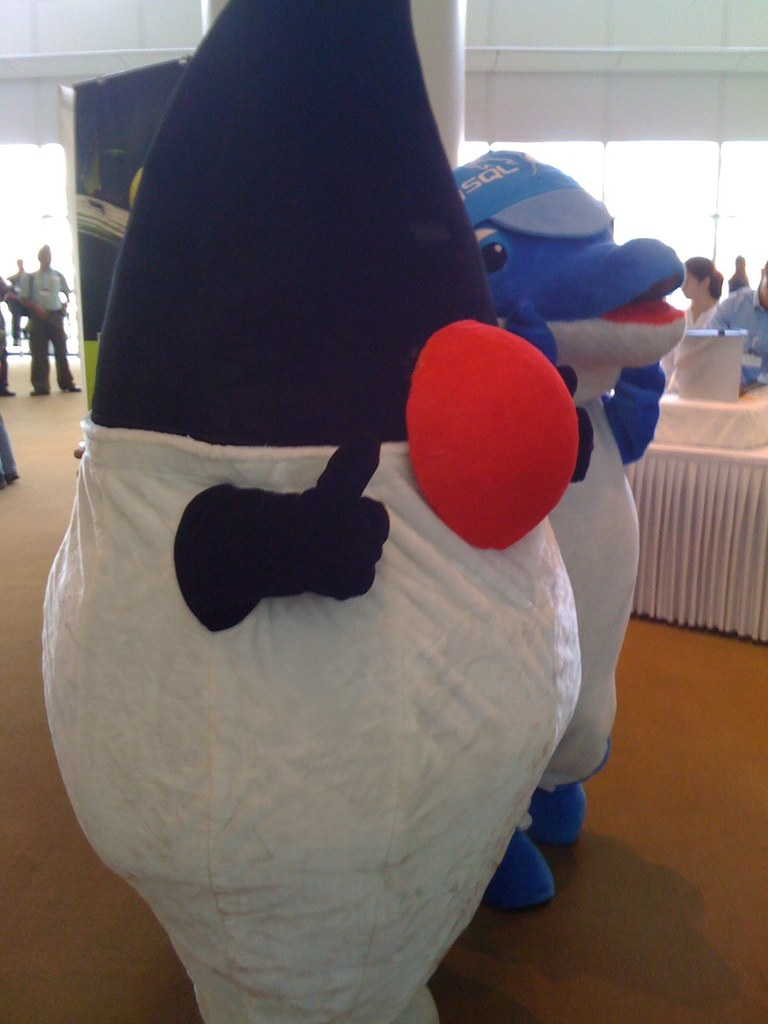person: (0, 409, 20, 488)
